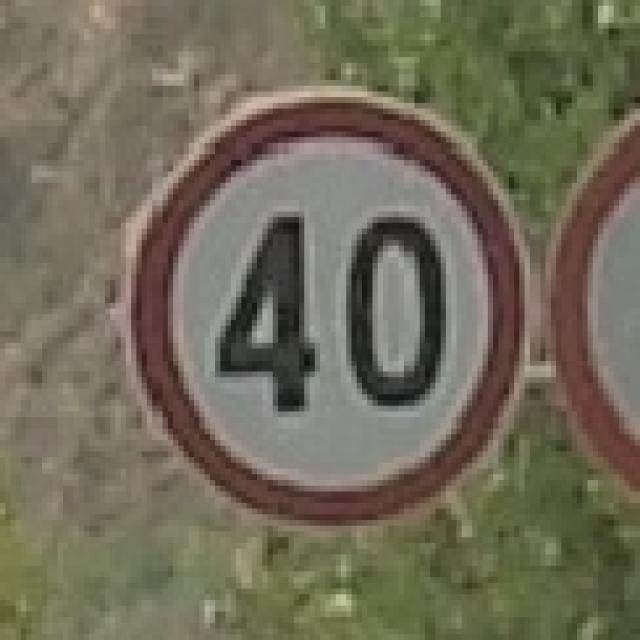Speed Limit -40-: (212, 209, 454, 418)
